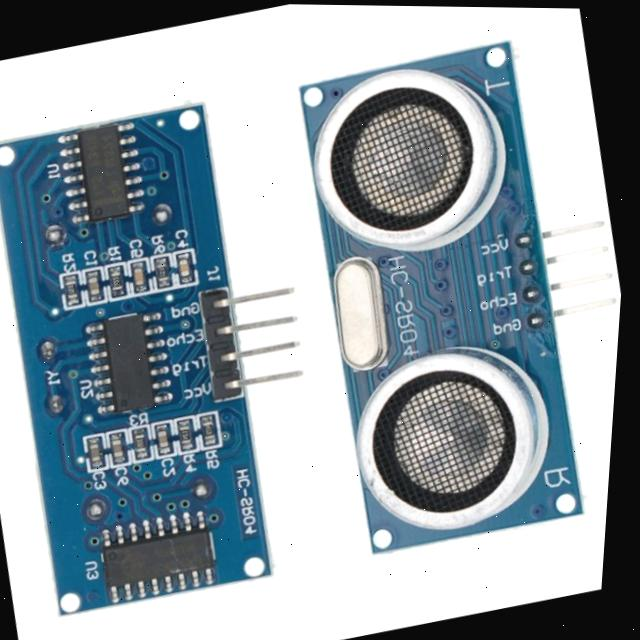Ultrasonic Sensor: (294, 26, 624, 562)
